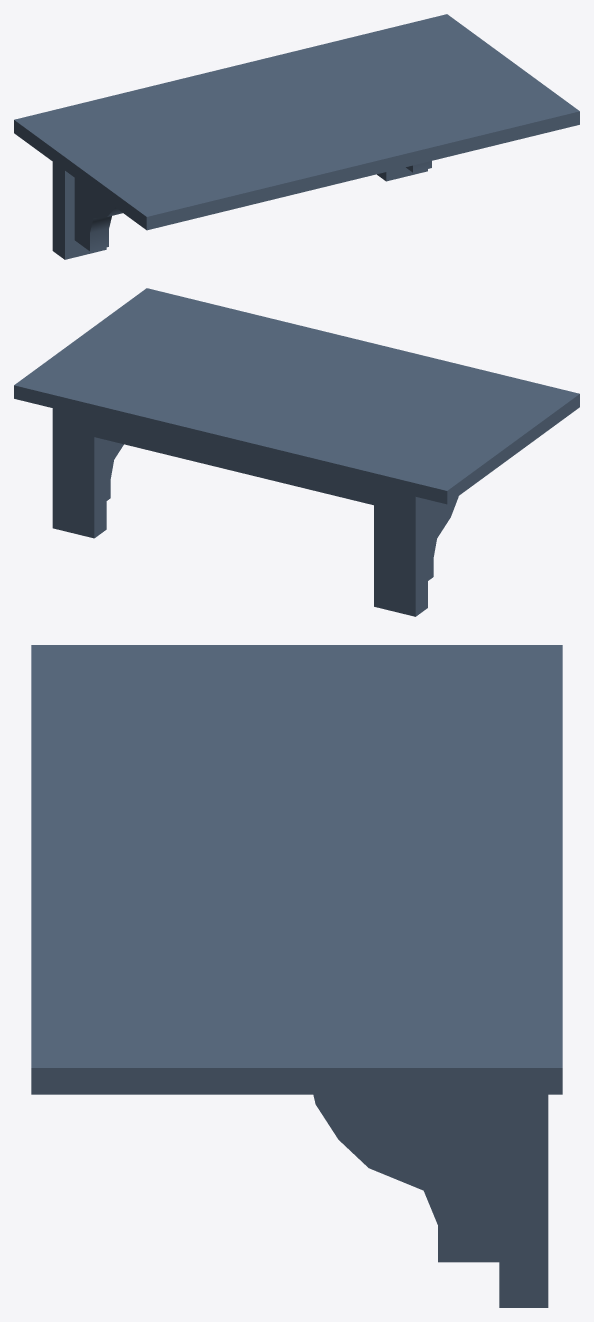
The model's file is WallShelf_01.fbx.
3 renders of one model, top to bottom at view 1: azimuth 30°, elevation 25°; view 2: azimuth 150°, elevation 25°; view 3: azimuth 270°, elevation 25°, orthographic. The views are drawn at different scales.
Visible parts, largest first — view 1: WallShelf_01; view 2: WallShelf_01; view 3: WallShelf_01.
Part boxes in pixels (x1,y1,x2,y2): WallShelf_01: (14, 14, 579, 259); WallShelf_01: (14, 288, 579, 616); WallShelf_01: (31, 645, 562, 1307).
Bounding box in the file's own units: 0.5359 × 0.162 × 0.2846.
